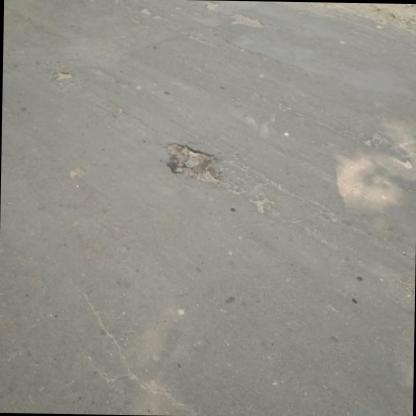pothole: (160, 140, 220, 186), (228, 10, 265, 28), (51, 69, 74, 81), (203, 0, 221, 10)
